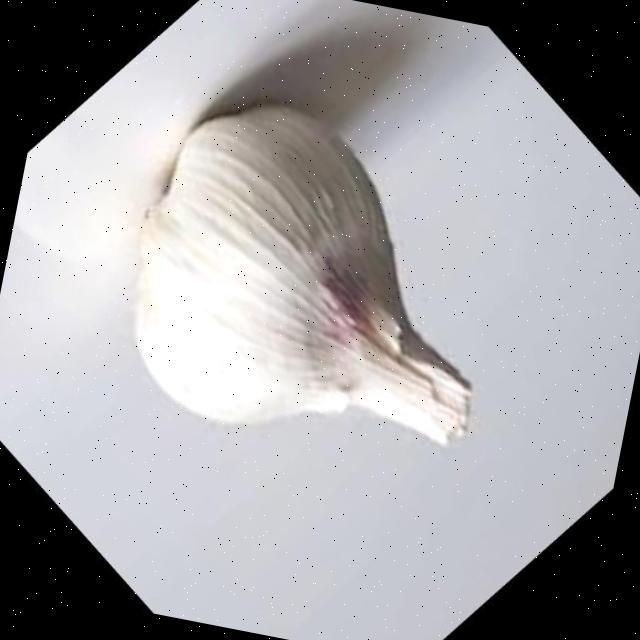garlic: (134, 106, 472, 445)
